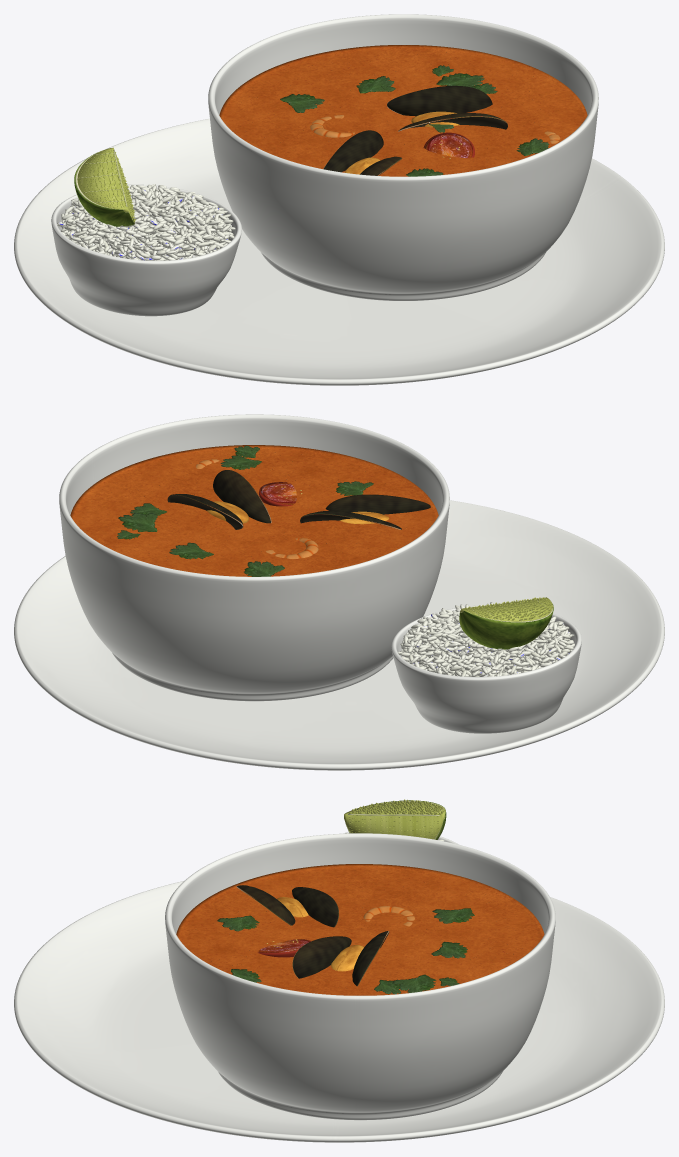
File: tom_yum_seafood.glb
3 views of the same model, one above another, from view 1: azimuth 30°, elevation 25°; view 2: azimuth 150°, elevation 25°; view 3: azimuth 270°, elevation 25° (orthographic).
Parts seen in each view (by area): view 1: 01_ServingPlate_280mm, 02_SoupBowl_168mm, 04_TomYum_Broth_Volume, 03_RiceBowl_82mm, 17_Rice_IndividualGrains, 06_MusselA_BackValve_Exterior, 20_Lime_FleshVolume, 08_MusselB_BackValve_Exterior, 07_MusselA_FrontValve_Exterior, 18_Lime_Rind, 14_Tomato_Front_CutFlesh, 21_Lime_JuiceVesicles (+1 smaller); view 2: 01_ServingPlate_280mm, 02_SoupBowl_168mm, 04_TomYum_Broth_Volume, 03_RiceBowl_82mm, 17_Rice_IndividualGrains, 18_Lime_Rind, 07_MusselA_FrontValve_Exterior, 09_MusselB_FrontValve_Exterior, 21_Lime_JuiceVesicles, 20_Lime_FleshVolume, 06_MusselA_BackValve_Exterior, 08_MusselB_BackValve_Exterior (+3 smaller); view 3: 01_ServingPlate_280mm, 02_SoupBowl_168mm, 04_TomYum_Broth_Volume, 20_Lime_FleshVolume, 07_MusselA_FrontValve_Exterior, 21_Lime_JuiceVesicles, 08_MusselB_BackValve_Exterior, 10_Mussel_GoldenFlesh, 09_MusselB_FrontValve_Exterior, 06_MusselA_BackValve_Exterior, 16_Cilantro_02.
Part boxes in pixels (x1,y1,x2,y2): 01_ServingPlate_280mm: (14, 118, 664, 385); 02_SoupBowl_168mm: (208, 14, 598, 300); 04_TomYum_Broth_Volume: (219, 45, 587, 176); 03_RiceBowl_82mm: (51, 184, 241, 316); 17_Rice_IndividualGrains: (57, 184, 235, 260); 06_MusselA_BackValve_Exterior: (387, 85, 492, 116); 20_Lime_FleshVolume: (77, 147, 134, 222); 08_MusselB_BackValve_Exterior: (323, 130, 383, 172); 07_MusselA_FrontValve_Exterior: (398, 113, 507, 131); 18_Lime_Rind: (74, 151, 134, 226); 14_Tomato_Front_CutFlesh: (424, 134, 472, 158); 21_Lime_JuiceVesicles: (79, 150, 135, 221); 01_ServingPlate_280mm: (14, 500, 664, 770); 02_SoupBowl_168mm: (59, 414, 449, 701); 04_TomYum_Broth_Volume: (70, 445, 438, 576); 03_RiceBowl_82mm: (391, 605, 581, 733); 17_Rice_IndividualGrains: (397, 602, 574, 676); 18_Lime_Rind: (459, 604, 553, 649); 07_MusselA_FrontValve_Exterior: (213, 470, 271, 523); 09_MusselB_FrontValve_Exterior: (325, 494, 430, 514); 21_Lime_JuiceVesicles: (465, 597, 553, 620); 20_Lime_FleshVolume: (460, 597, 552, 621); 06_MusselA_BackValve_Exterior: (167, 494, 243, 529); 08_MusselB_BackValve_Exterior: (300, 511, 401, 529); 01_ServingPlate_280mm: (14, 880, 664, 1142); 02_SoupBowl_168mm: (165, 833, 555, 1120); 04_TomYum_Broth_Volume: (176, 864, 544, 995); 20_Lime_FleshVolume: (344, 801, 445, 839); 07_MusselA_FrontValve_Exterior: (292, 936, 351, 978); 21_Lime_JuiceVesicles: (348, 799, 445, 838); 08_MusselB_BackValve_Exterior: (292, 887, 338, 927); 10_Mussel_GoldenFlesh: (277, 897, 364, 971); 09_MusselB_FrontValve_Exterior: (236, 885, 295, 925); 06_MusselA_BackValve_Exterior: (352, 931, 389, 986); 16_Cilantro_02: (392, 974, 436, 992).
Size of the model in its own units: 0.28 by 0.0751 by 0.28.
17 materials, 12 textured.
